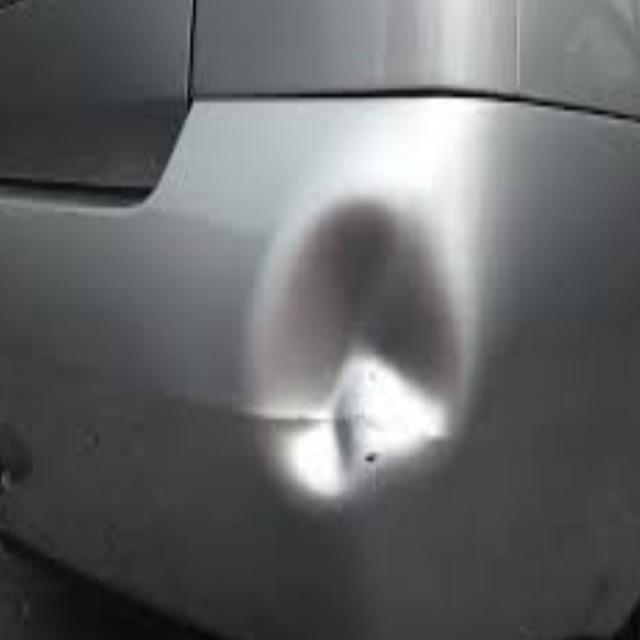dents: (238, 190, 487, 498)
